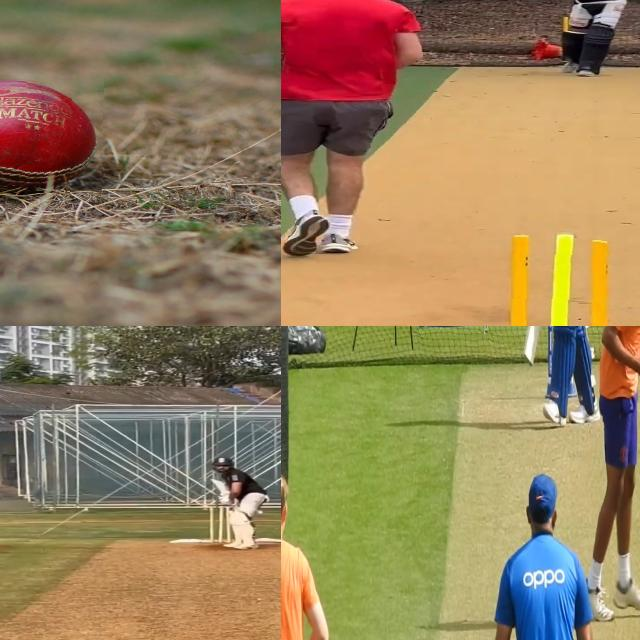Cricket ball: (0, 75, 104, 192)
Stumps: (488, 230, 629, 326), (209, 506, 232, 545)
